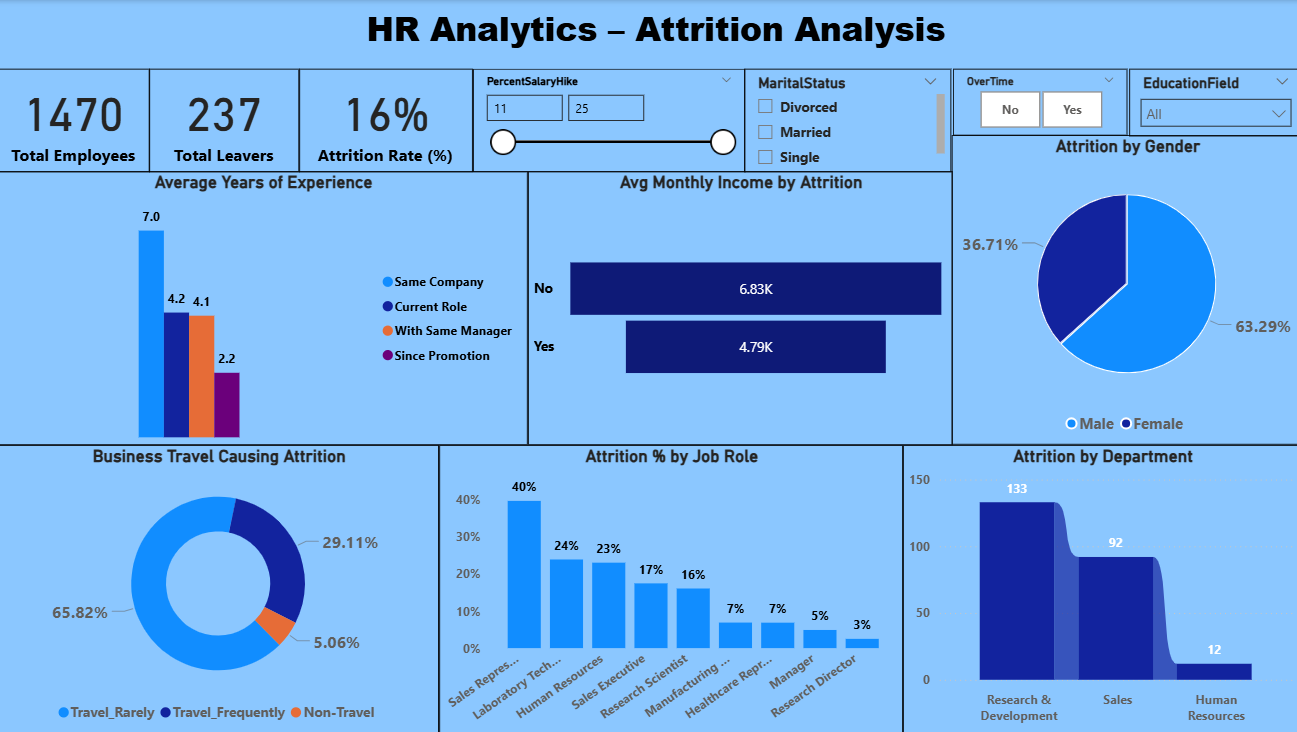

Layout of this report page (visuals, bound fields, positions):
{"tool":"powerbi","page":{"name":"Attrition Analysis","canvas":[1280,720],"ordinal":0},"visuals":[{"type":"textbox","box":[290.8,0,699.4,56.4],"z":0},{"type":"card","fields":{"Values":["Employee2.Attrition Percentage2"]},"box":[295.7,67.1,170,101.4],"z":1000},{"type":"card","fields":{"Values":["Employee2.Total Employees2"]},"box":[0,67.1,148.6,101.4],"z":2000},{"type":"card","fields":{"Values":["Employee2.Total Leavers2"]},"box":[148.6,67.1,147.1,101.4],"z":3000},{"type":"pieChart","title":"Attrition by Gender","fields":{"Y":["Employee2.Total Employees2"],"Category":["Employee2.Gender"]},"box":[935.7,132.9,344.3,304.3],"z":4000},{"type":"clusteredColumnChart","title":"Average Years of Experience ","fields":{"Y":["Employee2.Same Company2","Employee2.Current Role2","Employee2.With Same Manager2","Employee2.Since Promotion2"]},"box":[0,168.6,520,268.6],"z":5000},{"type":"slicer","fields":{"Values":["Employee2.OverTime"]},"box":[937.1,67.1,171.4,65.7],"z":6000},{"type":"slicer","fields":{"Values":["Employee2.EducationField"]},"box":[1110,67.5,170,66.2],"z":7000},{"type":"slicer","fields":{"Values":["Employee.PercentSalaryHike"]},"box":[465.7,67.1,267.1,101.4],"z":8000},{"type":"columnChart","title":"Attrition by Department","fields":{"Category":["Employee2.Department"],"Y":["CountNonNull(Employee2.Attrition)"]},"box":[888.6,437.1,391.4,282.9],"z":9000},{"type":"donutChart","title":"Business Travel Causing Attrition","fields":{"Category":["Employee2.BusinessTravel","Employee2.Attrition"],"Y":["Employee2.Total Employees2"]},"box":[0,437.1,432.9,282.9],"z":10000},{"type":"columnChart","title":"Attrition % by Job Role","fields":{"Y":["Employee2.Attrition Percentage2"],"Category":["Employee2.JobRole"]},"box":[432.9,436.8,455.1,283.8],"z":11000},{"type":"funnel","title":"Avg Monthly Income by Attrition","fields":{"Y":["Avg(Employee2.MonthlyIncome)"],"Category":["Employee2.Attrition"]},"box":[520,168.6,417.1,268.6],"z":12000},{"type":"slicer","fields":{"Values":["Employee2.MaritalStatus"]},"box":[732.9,67.1,202.9,101.4],"z":13000}]}

Visuals, with their boxes in screenshot pixels (x1, y1, x2, y2), scaled from the page's 1280x720 canvas onto the 1297x732 screenshot:
textbox: region(295, 0, 1003, 57)
card - Employee2.Attrition Percentage2: region(300, 68, 472, 171)
card - Employee2.Total Employees2: region(0, 68, 151, 171)
card - Employee2.Total Leavers2: region(151, 68, 300, 171)
"Attrition by Gender" pieChart: region(948, 135, 1296, 444)
"Average Years of Experience " clusteredColumnChart: region(0, 171, 527, 444)
slicer - Employee2.OverTime: region(950, 68, 1123, 135)
slicer - Employee2.EducationField: region(1125, 69, 1296, 136)
slicer - Employee.PercentSalaryHike: region(472, 68, 743, 171)
"Attrition by Department" columnChart: region(900, 444, 1296, 731)
"Business Travel Causing Attrition" donutChart: region(0, 444, 439, 731)
"Attrition % by Job Role" columnChart: region(439, 444, 900, 731)
"Avg Monthly Income by Attrition" funnel: region(527, 171, 950, 444)
slicer - Employee2.MaritalStatus: region(743, 68, 948, 171)
